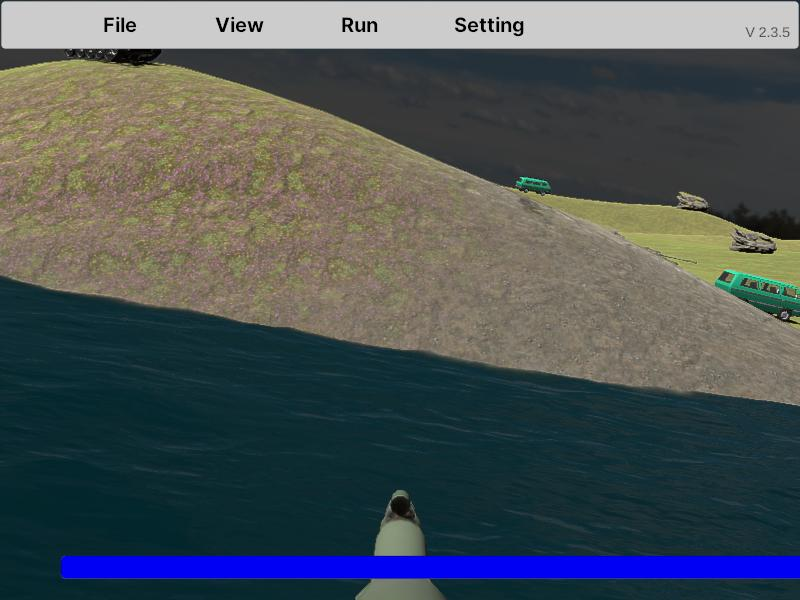car: (714, 270, 800, 325)
